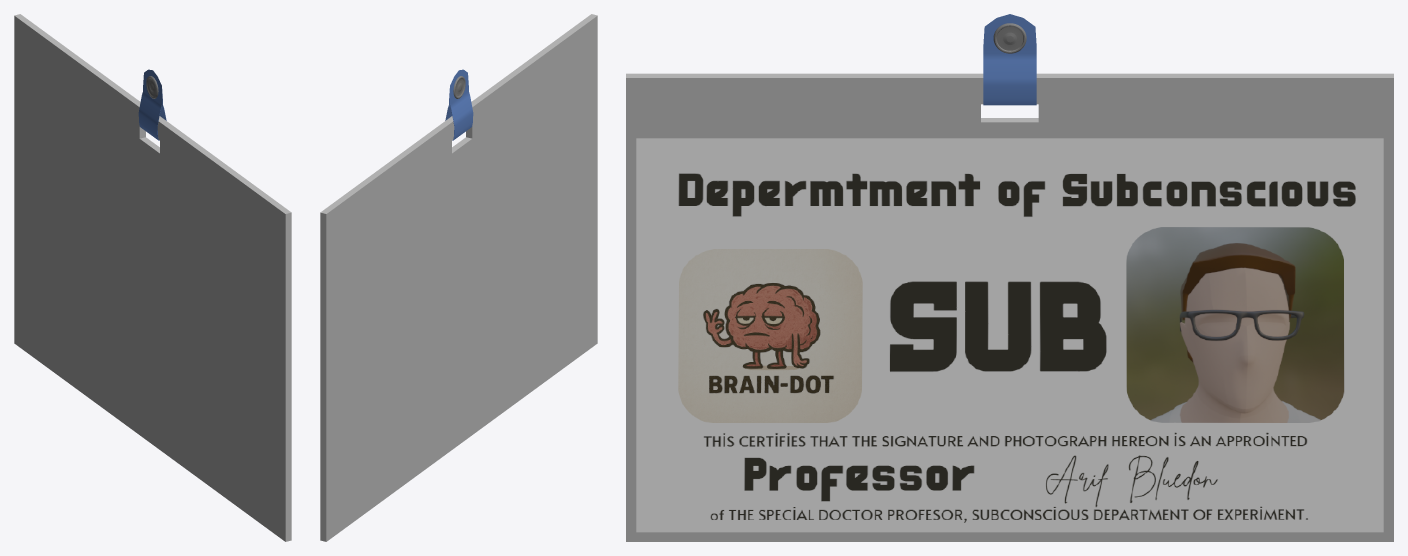
The model's file is Yaka kartı2.fbx.
The picture shows the model from 3 angles, left to right: view 1: azimuth 30°, elevation 25°; view 2: azimuth 150°, elevation 25°; view 3: azimuth 270°, elevation 25°; orthographic projection. The views are drawn at different scales.
Parts seen in each view (by area): view 1: Cube; view 2: Cube; view 3: Cube.
Part boxes in pixels (x1,y1,x2,y2): Cube: [14, 14, 291, 541]; Cube: [320, 14, 597, 541]; Cube: [626, 14, 1393, 541].
Size of the model in its own units: 0.0623 by 2.27 by 3.
